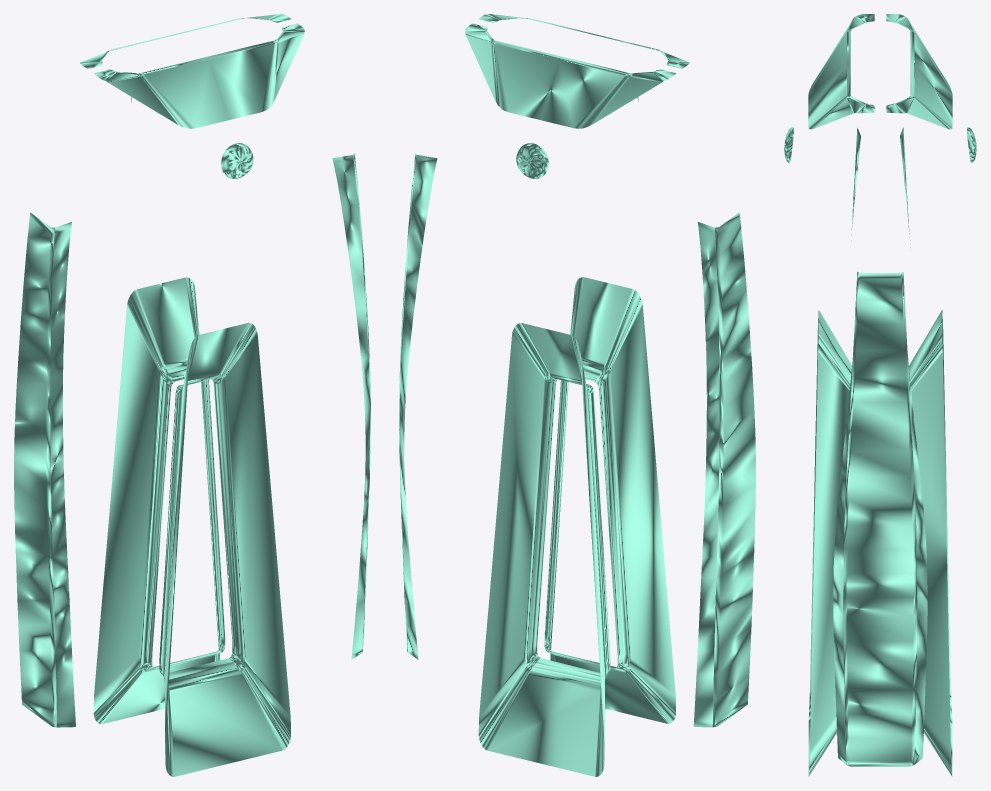
The model's file is newbab_hab_tower_c.glb.
The picture shows the model from 3 angles, left to right: view 1: azimuth 30°, elevation 25°; view 2: azimuth 150°, elevation 25°; view 3: azimuth 270°, elevation 25°; orthographic projection.
Size of the model in its own units: 457 by 931 by 236.
